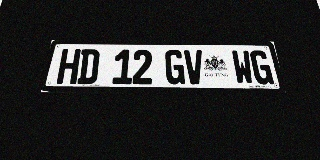1: (112, 49, 133, 84)
2: (132, 49, 152, 84)
D: (77, 49, 100, 84)
G: (249, 50, 274, 84), (165, 50, 185, 84)
H: (56, 49, 81, 84)
V: (184, 50, 205, 84)
W: (231, 50, 255, 84)
